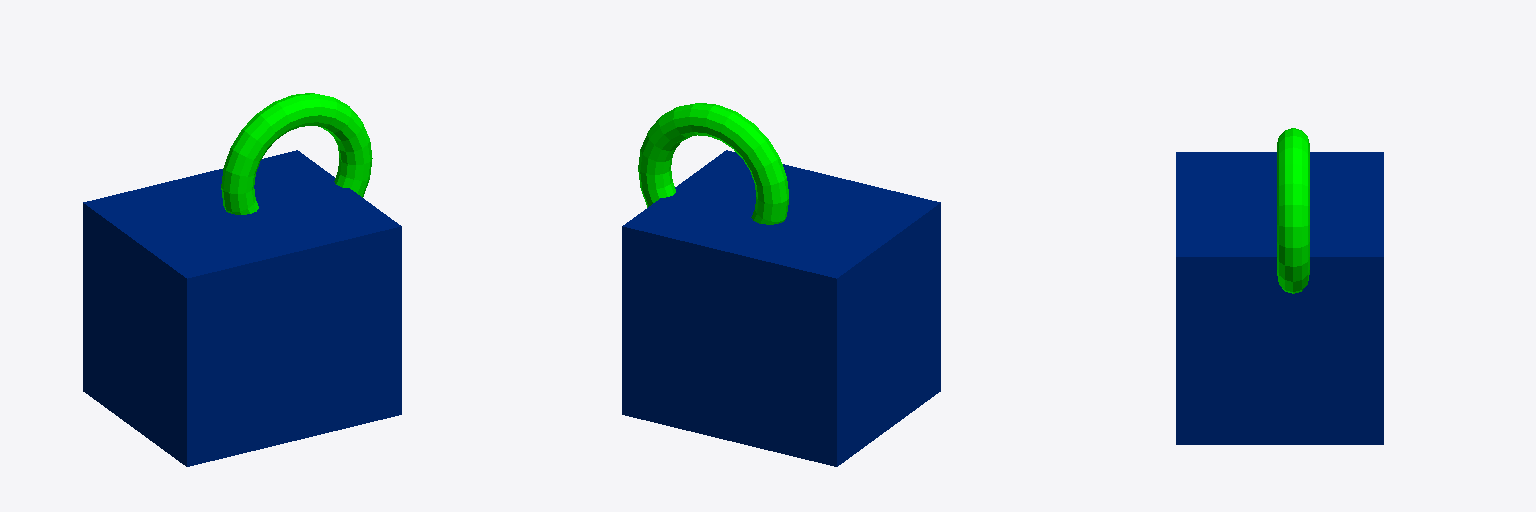
File: sample-obj.obj
The picture shows the model from 3 angles: view 1: azimuth 30°, elevation 25°; view 2: azimuth 150°, elevation 25°; view 3: azimuth 270°, elevation 25°; orthographic projection.
Parts seen in each view (by area): view 1: Box001, Torus001; view 2: Box001, Torus001; view 3: Box001, Torus001.
Part boxes in pixels (x1,y1,x2,y2): Box001: (83,150,401,466); Torus001: (221,93,372,214); Box001: (622,150,940,466); Torus001: (638,103,788,224); Box001: (1176,152,1383,444); Torus001: (1277,128,1309,293).
Size of the model in its own units: 50.34 by 57.08 by 37.45.